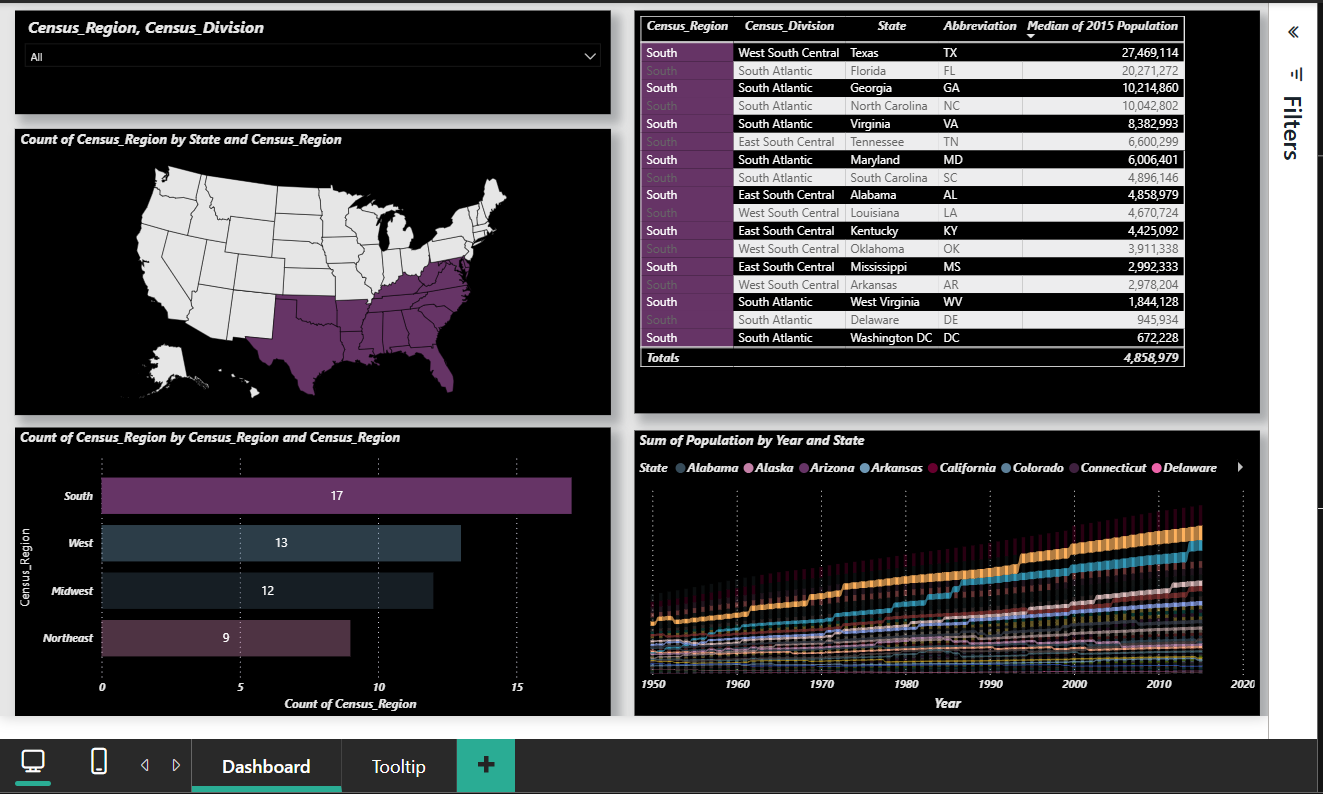

Layout of this report page (visuals, bound fields, positions):
{"tool":"powerbi","page":{"name":"Dashboard","canvas":[1280,720],"ordinal":0},"visuals":[{"type":"tableEx","title":"US STATES","fields":{"Values":["States.Census Area.Census_Region","States.Census Area.Census_Division","States.State","States.abbreviation","States.2015 Population"]},"box":[640.1,7.9,631.3,406.5],"z":0},{"type":"shapeMap","fields":{"Category":["States.State"],"Series":["States.Census_Region"],"Value":["CountNonNull(States.Census_Region)"]},"box":[15.8,126.4,601.5,288.9],"z":1000},{"type":"barChart","fields":{"Category":["States.Census_Region"],"Y":["CountNonNull(States.Census_Region)"],"Series":["States.Census_Region"]},"box":[15.8,428.5,601.5,291.5],"z":2000},{"type":"slicer","fields":{"Values":["States.Census Area.Census_Region","States.Census Area.Census_Division"]},"box":[15.8,7.9,601.5,104.5],"z":3000},{"type":"ribbonChart","fields":{"Category":["states-population.Year"],"Series":["States.State"],"Y":["Sum(states-population.Population)"]},"box":[640.1,432,631.3,288],"z":4000}]}

Visuals, with their boxes on the page's 1280x720 design canvas (x1, y1, x2, y2). These are canvas units, not pixel positions in the 1323x794 screenshot, which may show the page scaled, cropped or inside an application window:
"US STATES" tableEx: 640, 8, 1271, 414
shapeMap - States.State x States.Census_Region: 16, 126, 617, 415
barChart - States.Census_Region x CountNonNull(States.Census_Region): 16, 428, 617, 720
slicer - States.Census Area.Census_Region x States.Census Area.Census_Division: 16, 8, 617, 112
ribbonChart - states-population.Year x States.State: 640, 432, 1271, 720
